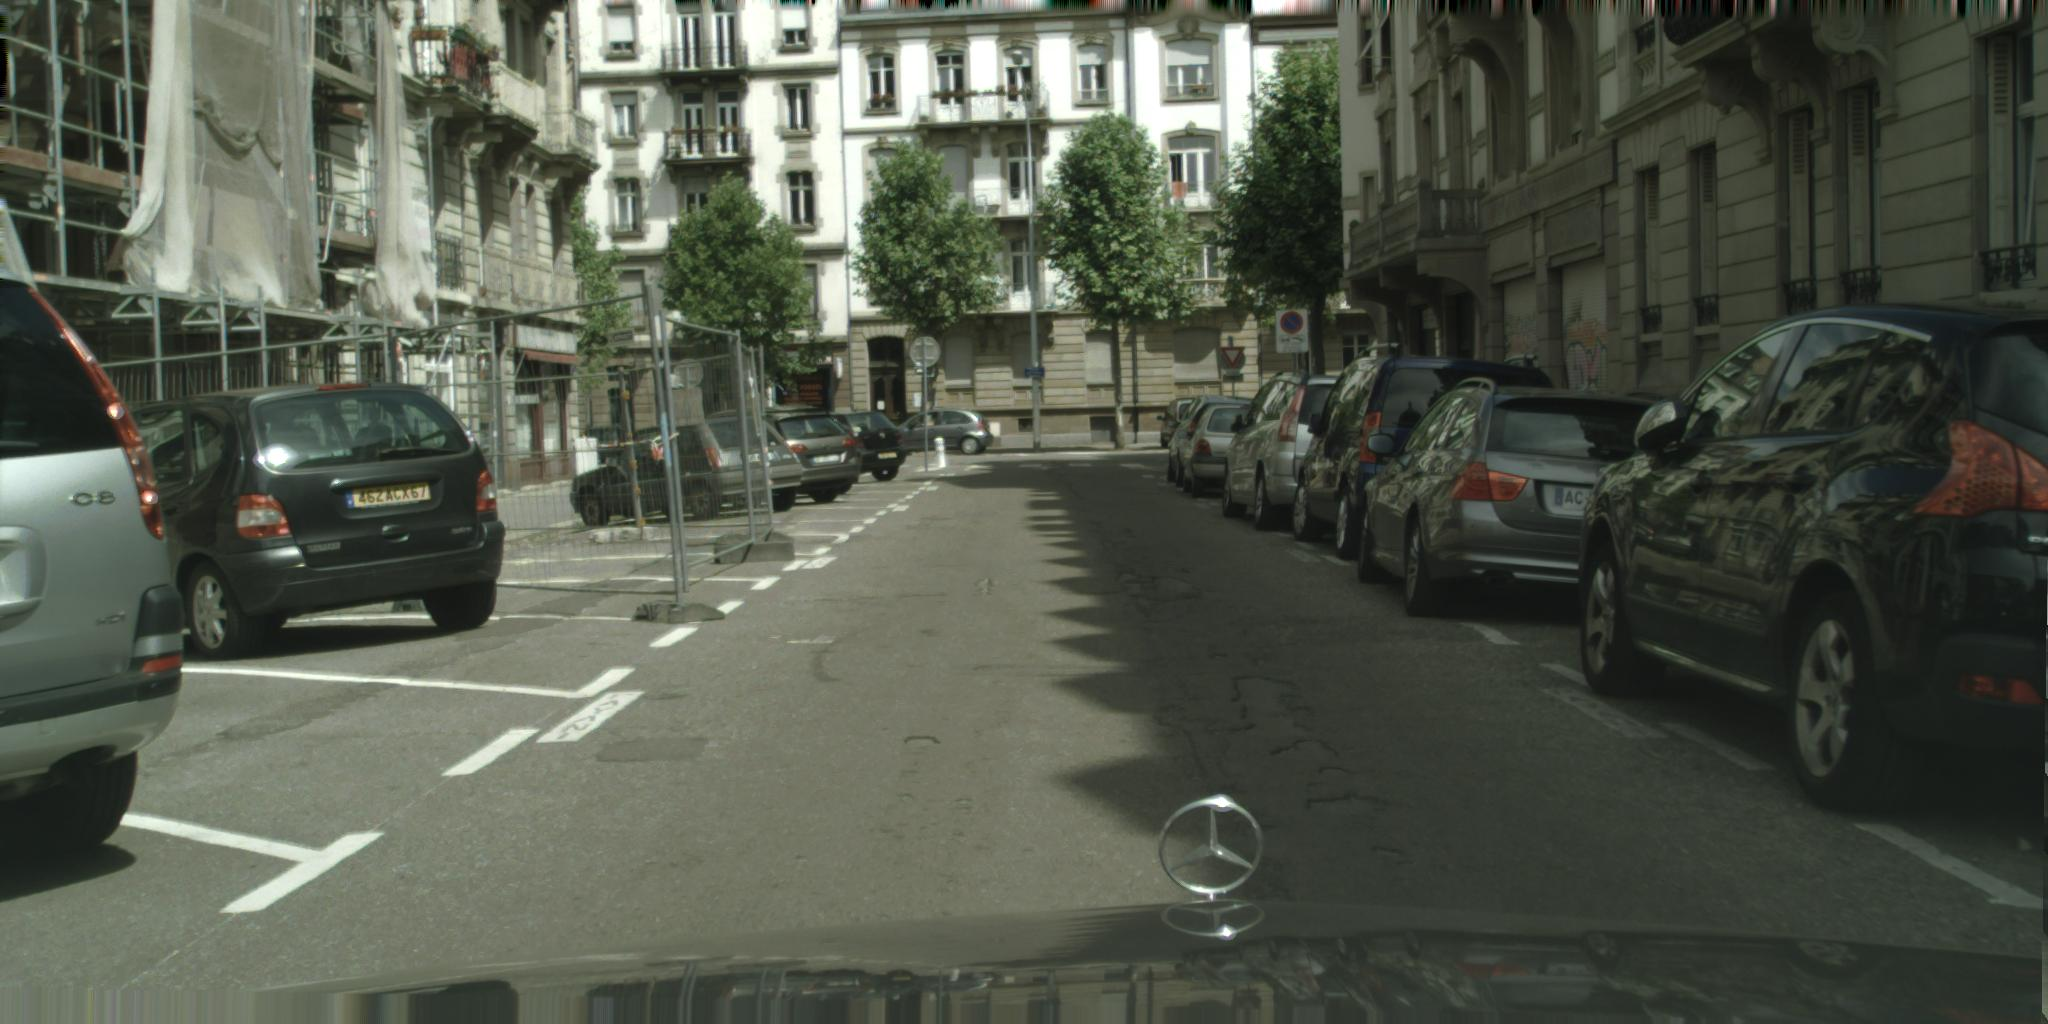car: (1576, 303, 2048, 818), (1, 263, 185, 874), (114, 381, 508, 661), (1356, 376, 1691, 620), (1290, 341, 1571, 562), (1221, 367, 1356, 533), (1166, 394, 1273, 488), (760, 411, 862, 505), (1176, 404, 1263, 500), (815, 409, 916, 483), (761, 405, 865, 475), (816, 409, 910, 485), (741, 413, 806, 516), (889, 408, 995, 458), (1155, 394, 1202, 451)
